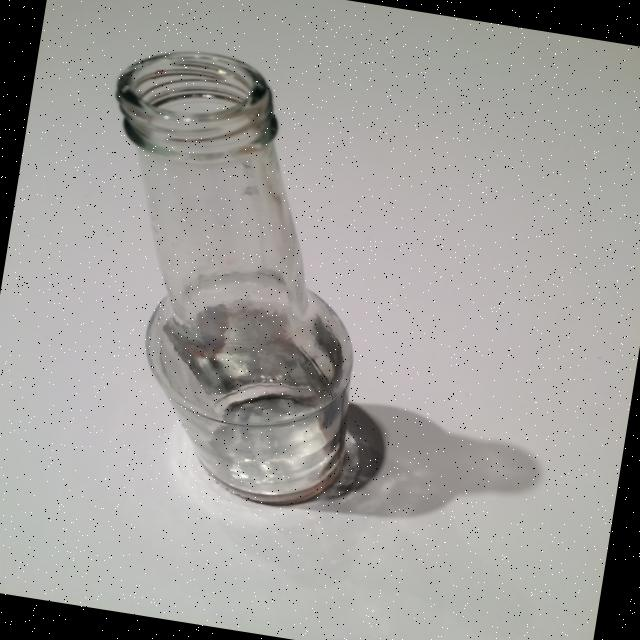glass: (54, 38, 443, 522)
